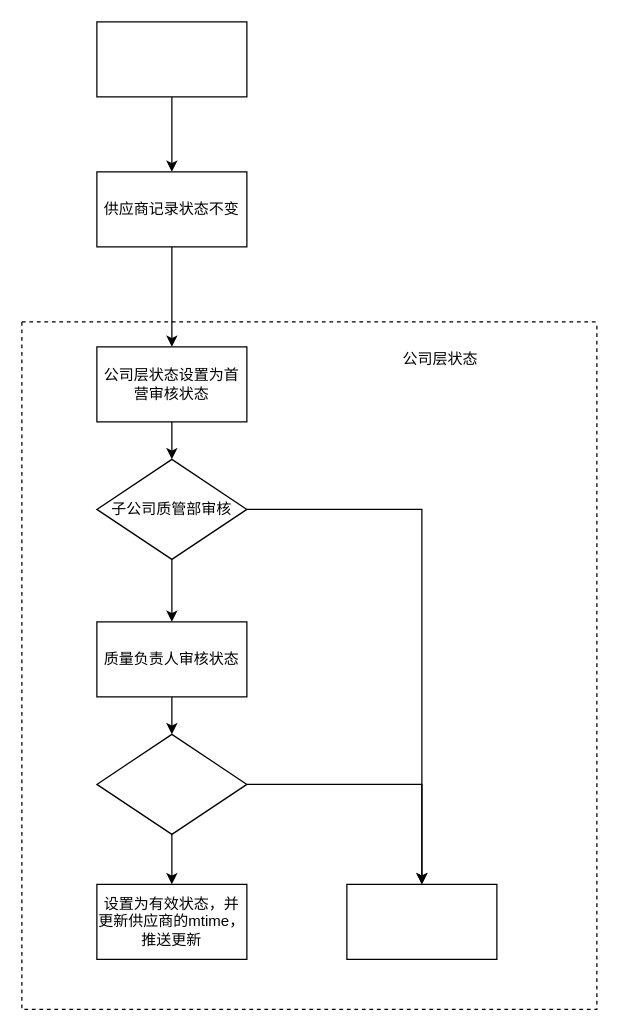
The diagram is 619 pixels wide and 1031 high, and some of its shapes have lost their labels. The centre of each missing label's shape, as x and y in pixels:
"删除此公司的采购信息，变成未引入状态" goes at (x=421, y=921).
"某个子公司引入供应商，填写采购信息" goes at (x=171, y=59).
"质量负责人审核" goes at (x=171, y=783).
